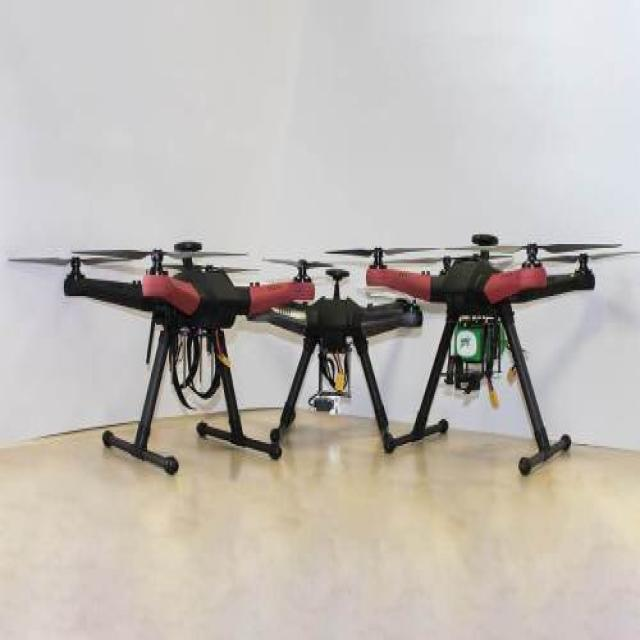drone: (9, 223, 338, 404), (324, 228, 640, 328)
